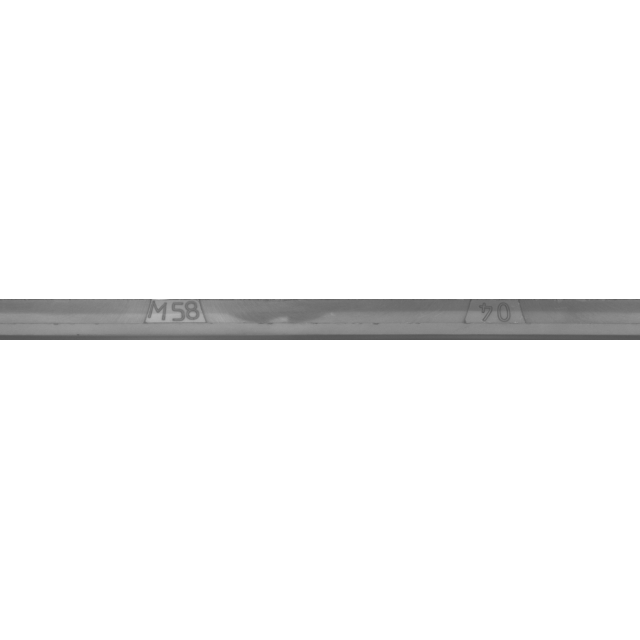mohao: (76, 270, 276, 370)
xuehao: (391, 270, 591, 370)
